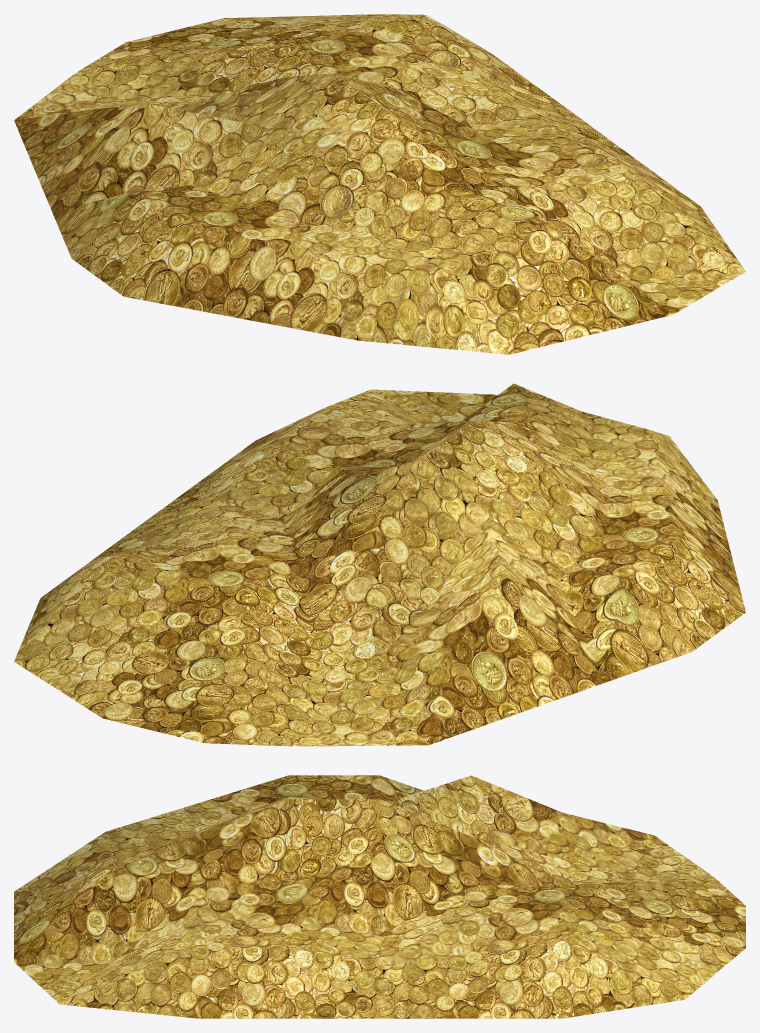
File: pile_o_coin.FBX
3 views of the same model, one above another, from view 1: azimuth 30°, elevation 25°; view 2: azimuth 150°, elevation 25°; view 3: azimuth 270°, elevation 25° (orthographic). The views are drawn at different scales.
Parts seen in each view (by area): view 1: Plane001; view 2: Plane001; view 3: Plane001.
Part boxes in pixels (box(x1,y1,x2,y2)): Plane001: box(14, 14, 745, 354); Plane001: box(14, 383, 745, 746); Plane001: box(14, 775, 745, 1018).
Size of the model in its own units: 35.28 by 7.78 by 48.41.
1 material, 1 textured.
